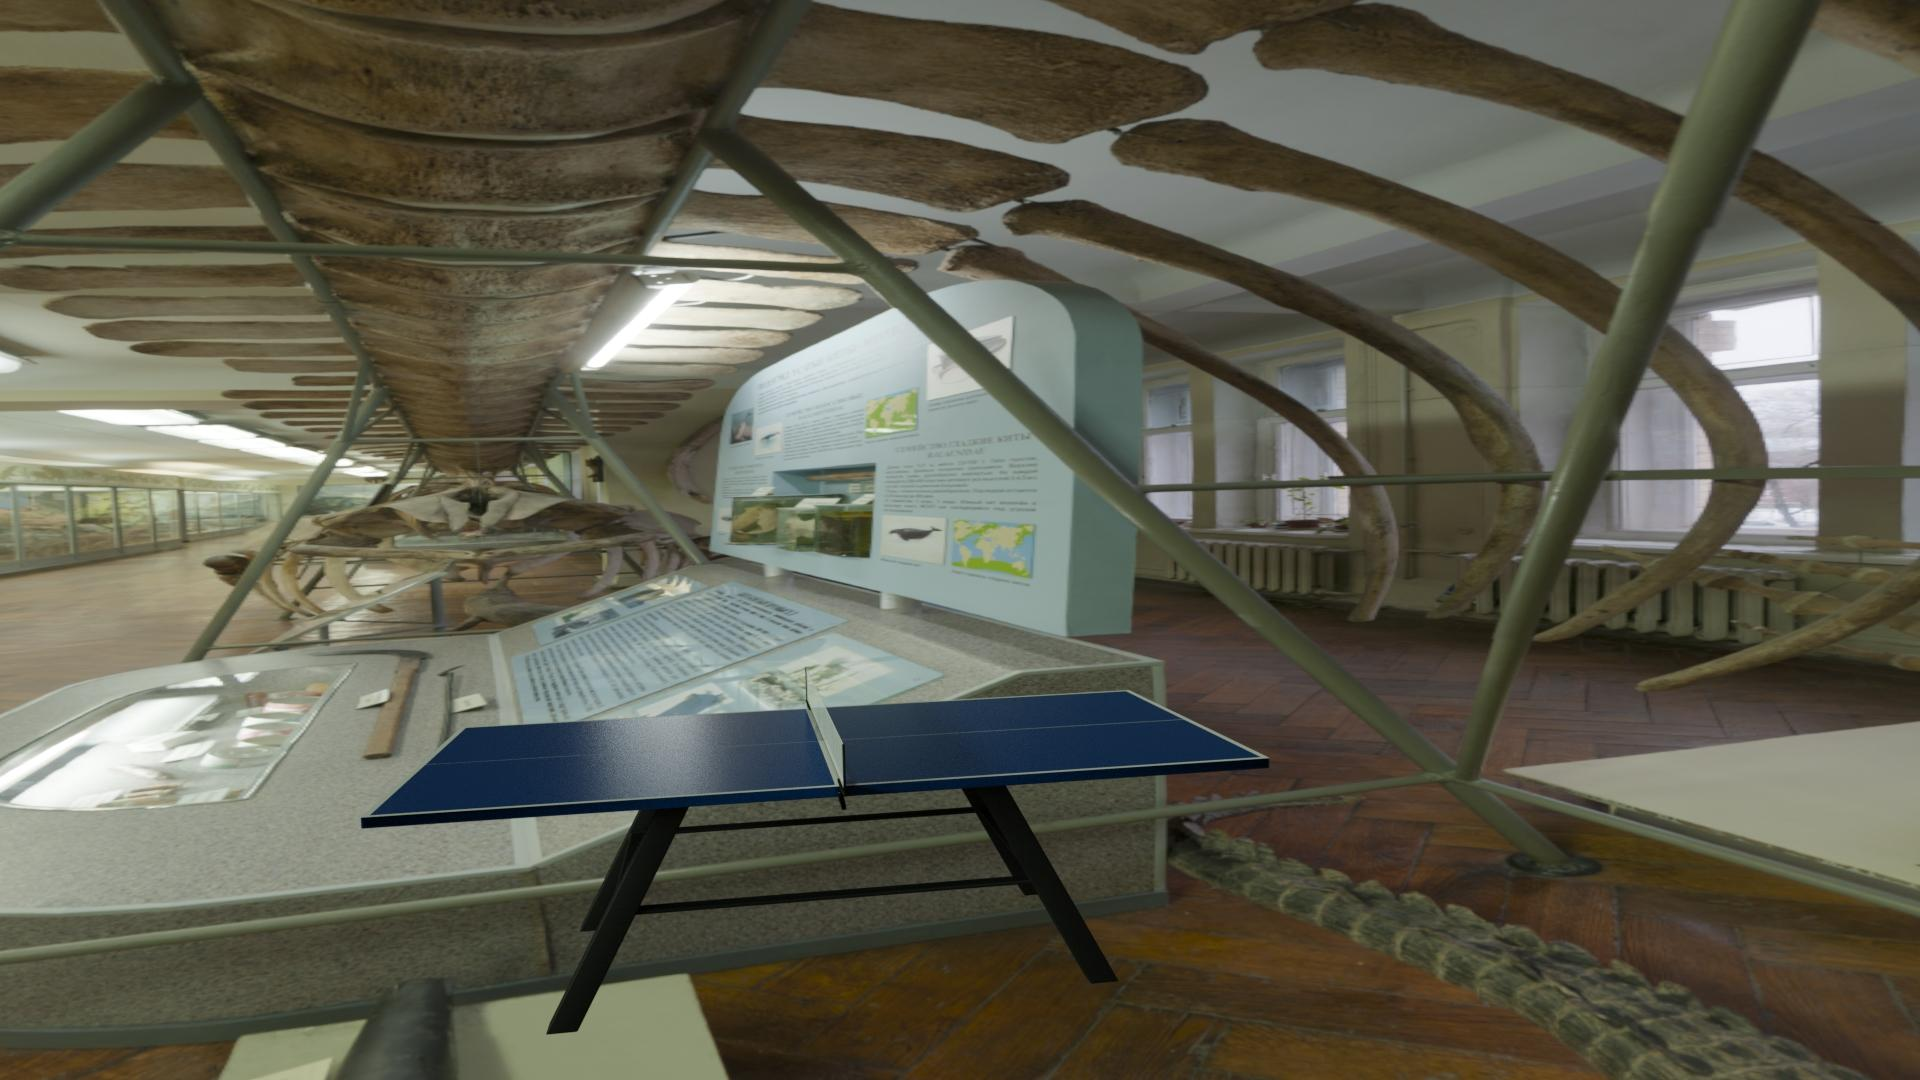table: (369, 691, 1262, 815)
